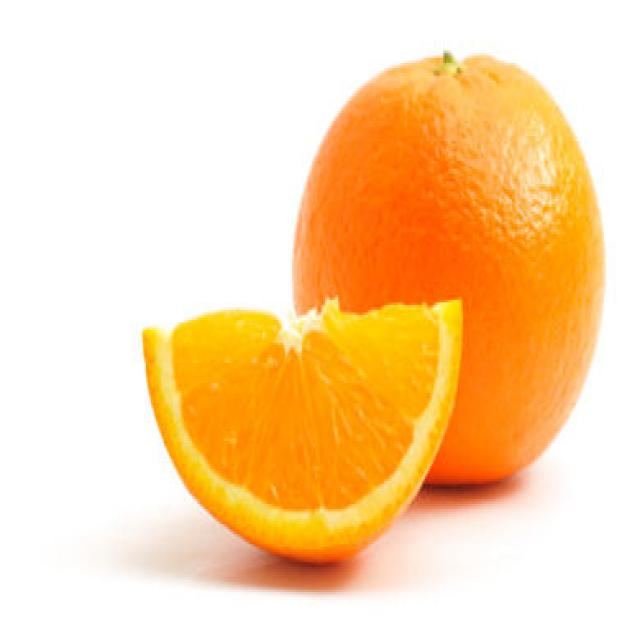orange: (274, 66, 601, 495), (128, 284, 486, 569)
